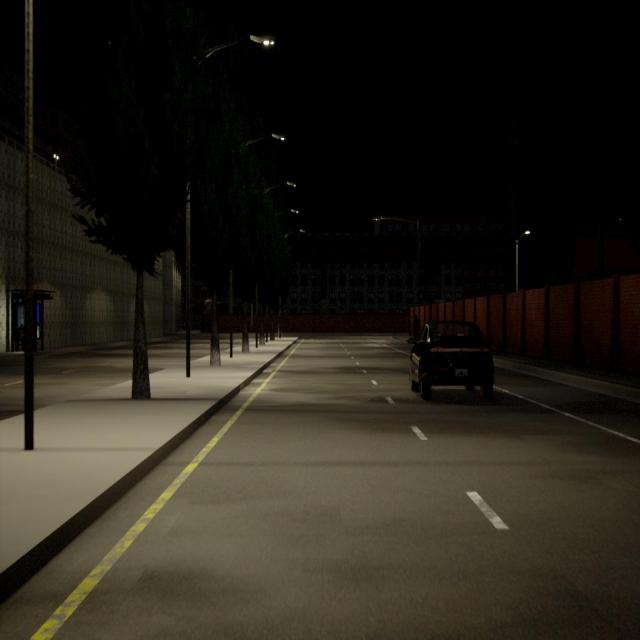Pedestrian: (412, 312, 418, 339)
Vehicle: (409, 322, 494, 398)
